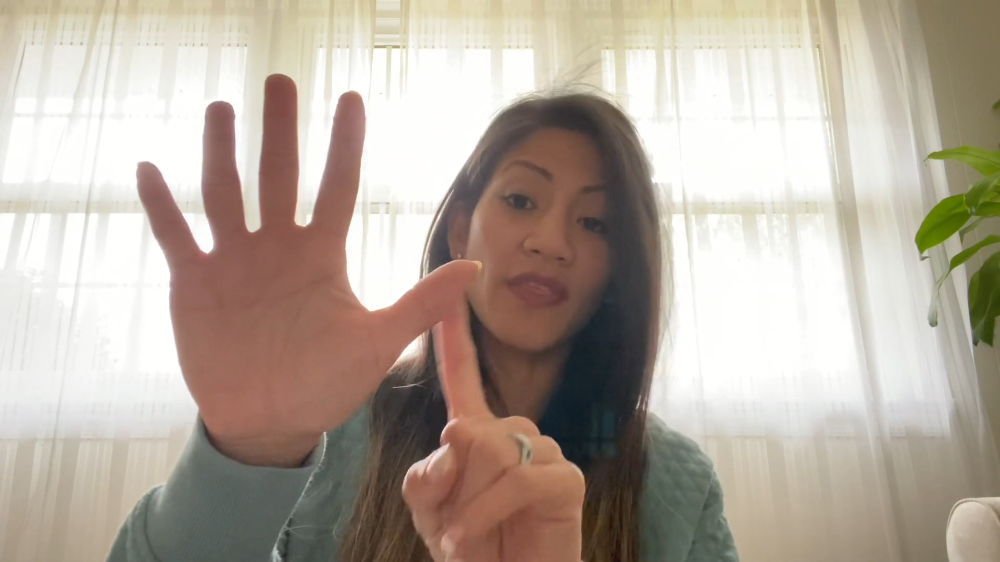hello: (135, 73, 477, 438)
